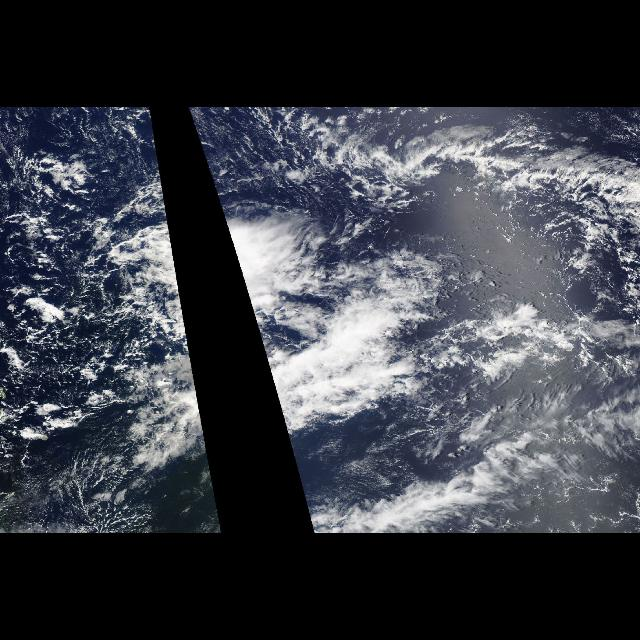Fish: (200, 108, 640, 436), (200, 406, 204, 436)
Gravel: (2, 109, 186, 534)
